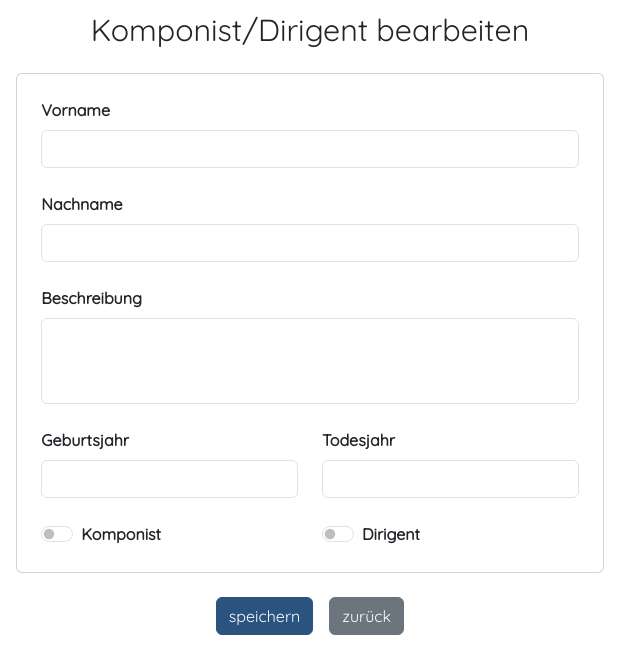
Test: ArtistFormView › shows field-level validation errors under the matching input
Click the button "speichern": coordinates (265, 616) [216,596,313,634]
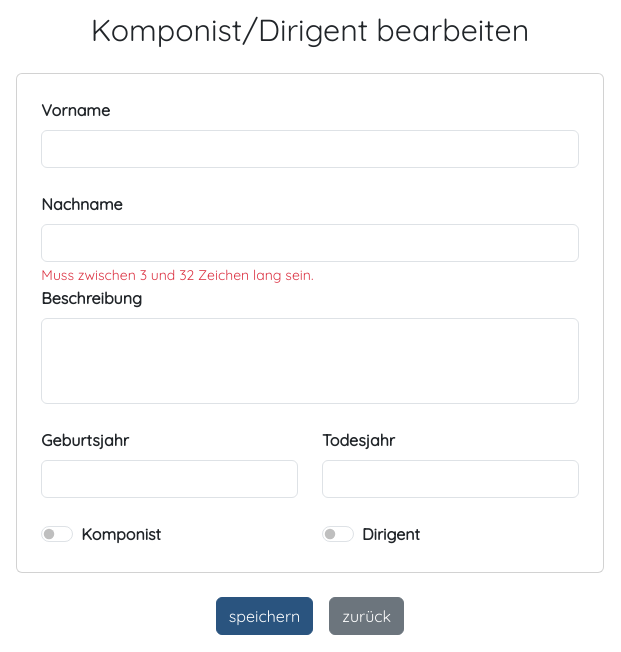
Check: the text "Muss zwischen 3 und 32 Zeichen lang sein." is shown, box [41,266,317,284]
